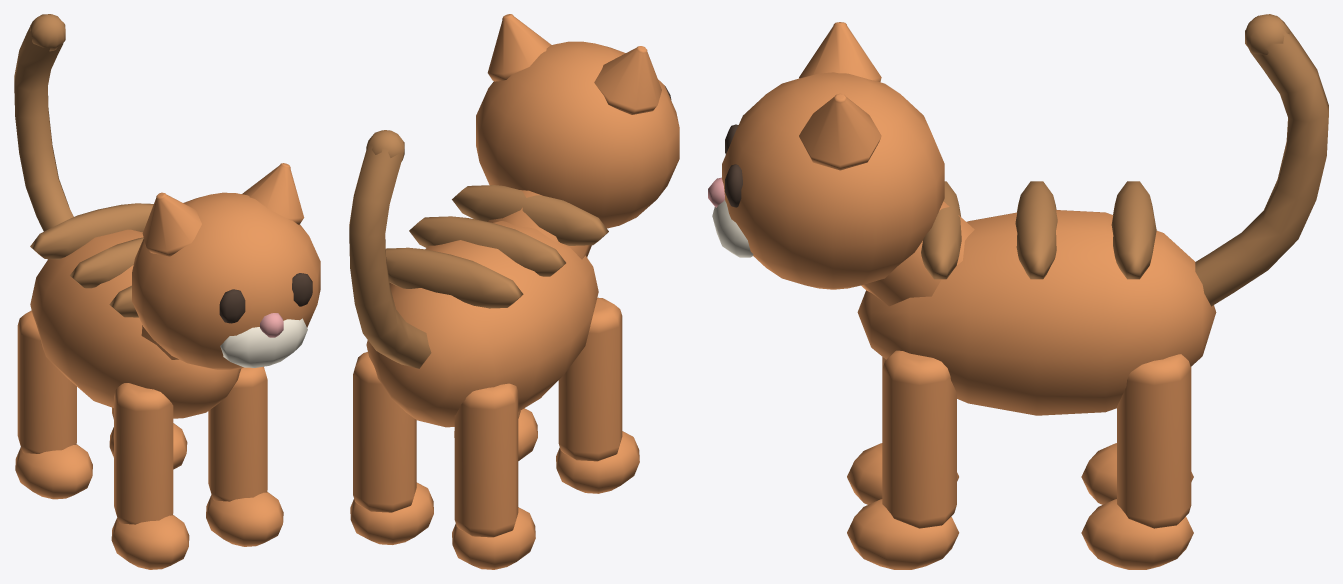
File: pet_cat_tabby.glb
3 views of the same model, side by side, from view 1: azimuth 30°, elevation 25°; view 2: azimuth 150°, elevation 25°; view 3: azimuth 270°, elevation 25° (orthographic). The views are drawn at different scales.
Visible parts, largest first — view 1: pet_cat_tabby_Head_mesh, pet_cat_tabby_mesh, pet_cat_tabby_LegFL_mesh, pet_cat_tabby_LegFR_mesh, pet_cat_tabby_LegBL_mesh, pet_cat_tabby_Tail_mesh, pet_cat_tabby_LegBR_mesh; view 2: pet_cat_tabby_mesh, pet_cat_tabby_Head_mesh, pet_cat_tabby_LegBL_mesh, pet_cat_tabby_LegFL_mesh, pet_cat_tabby_LegBR_mesh, pet_cat_tabby_Tail_mesh, pet_cat_tabby_LegFR_mesh; view 3: pet_cat_tabby_mesh, pet_cat_tabby_Head_mesh, pet_cat_tabby_LegFR_mesh, pet_cat_tabby_LegBR_mesh, pet_cat_tabby_Tail_mesh, pet_cat_tabby_LegFL_mesh, pet_cat_tabby_LegBL_mesh.
Boxes of the visible parts, box(x1,y1,x2,y2) form: pet_cat_tabby_Head_mesh: box(132, 163, 320, 369); pet_cat_tabby_mesh: box(30, 203, 241, 418); pet_cat_tabby_LegFL_mesh: box(111, 383, 189, 569); pet_cat_tabby_LegFR_mesh: box(206, 366, 283, 546); pet_cat_tabby_LegBL_mesh: box(15, 310, 92, 499); pet_cat_tabby_Tail_mesh: box(14, 14, 73, 231); pet_cat_tabby_LegBR_mesh: box(109, 407, 187, 469); pet_cat_tabby_mesh: box(366, 185, 608, 427); pet_cat_tabby_Head_mesh: box(476, 14, 679, 259); pet_cat_tabby_LegBL_mesh: box(452, 383, 535, 569); pet_cat_tabby_LegFL_mesh: box(556, 297, 639, 493); pet_cat_tabby_LegBR_mesh: box(350, 352, 433, 544); pet_cat_tabby_Tail_mesh: box(349, 130, 431, 368); pet_cat_tabby_LegFR_mesh: box(454, 408, 537, 460); pet_cat_tabby_mesh: box(857, 181, 1216, 415); pet_cat_tabby_Head_mesh: box(708, 22, 974, 306); pet_cat_tabby_LegFR_mesh: box(847, 350, 959, 569); pet_cat_tabby_LegBR_mesh: box(1081, 354, 1193, 569); pet_cat_tabby_Tail_mesh: box(1195, 14, 1328, 306); pet_cat_tabby_LegFL_mesh: box(847, 357, 958, 504); pet_cat_tabby_LegBL_mesh: box(1081, 367, 1193, 504).
Bounding box in the file's own units: 0.1696 × 0.4165 × 0.45.
